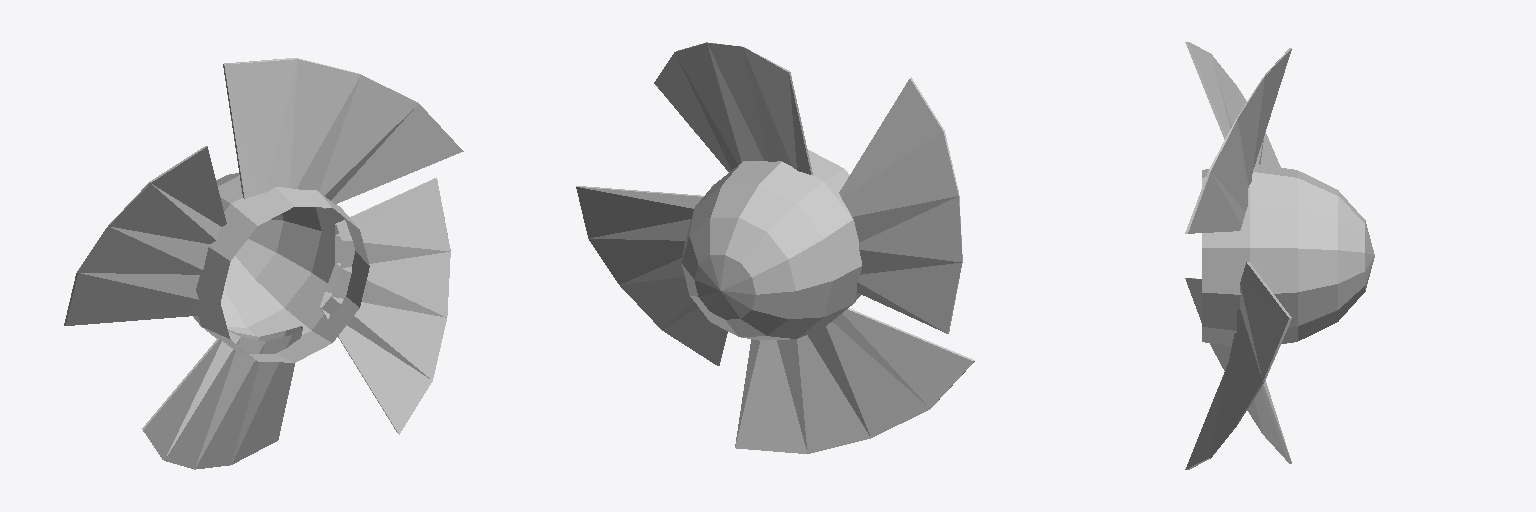
File: prop_bottom_left.obj
3 renders of one model, left to right at view 1: azimuth 30°, elevation 25°; view 2: azimuth 150°, elevation 25°; view 3: azimuth 270°, elevation 25°, orthographic.
Parts seen in each view (by area): view 1: rdmobj00.151, rdmobj00.211, rdmobj00.023, rdmobj00.153, rdmobj00.155; view 2: rdmobj00.211, rdmobj00.155, rdmobj00.153, rdmobj00.151, rdmobj00.023; view 3: rdmobj00.211, rdmobj00.023, rdmobj00.151, rdmobj00.153, rdmobj00.155.
Part boxes in pixels (x1,y1,x2,y2): rdmobj00.151: (223,58,463,209); rdmobj00.211: (193,173,369,362); rdmobj00.023: (320,178,450,434); rdmobj00.153: (64,146,226,325); rdmobj00.155: (142,326,302,469); rdmobj00.211: (682,150,862,340); rdmobj00.155: (735,308,974,453); rdmobj00.153: (839,77,962,333); rdmobj00.151: (654,42,812,174); rdmobj00.023: (576,186,727,365); rdmobj00.211: (1202,164,1374,345); rdmobj00.023: (1185,262,1291,469); rdmobj00.151: (1185,48,1291,233); rdmobj00.153: (1185,42,1280,167); rdmobj00.155: (1185,278,1291,463).
Bounding box in the file's own units: 94.73 × 94.73 × 41.66.